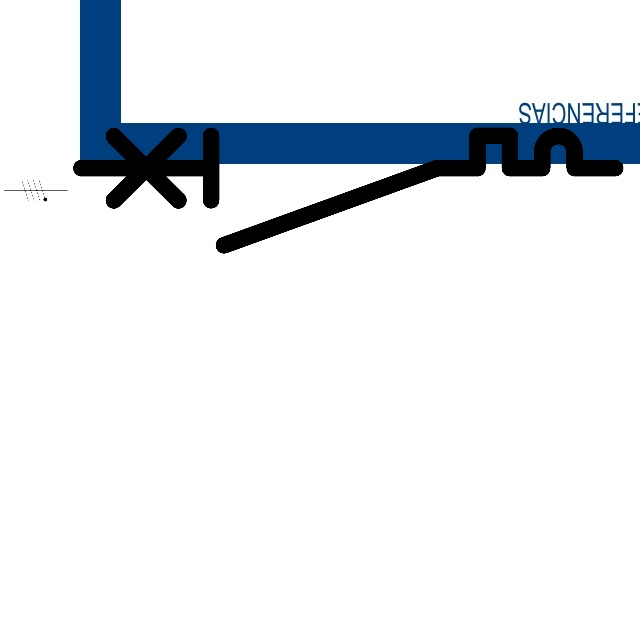interruptor_termomagnetico: (67, 122, 628, 259)
